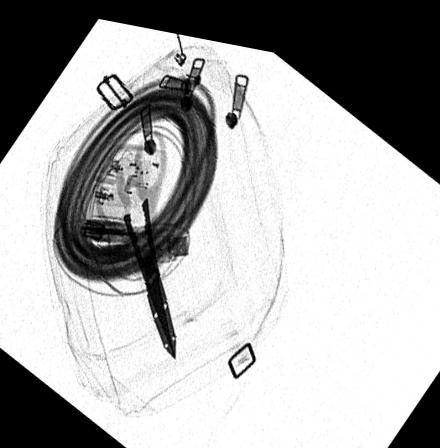Scissors: (91, 119, 181, 355)
